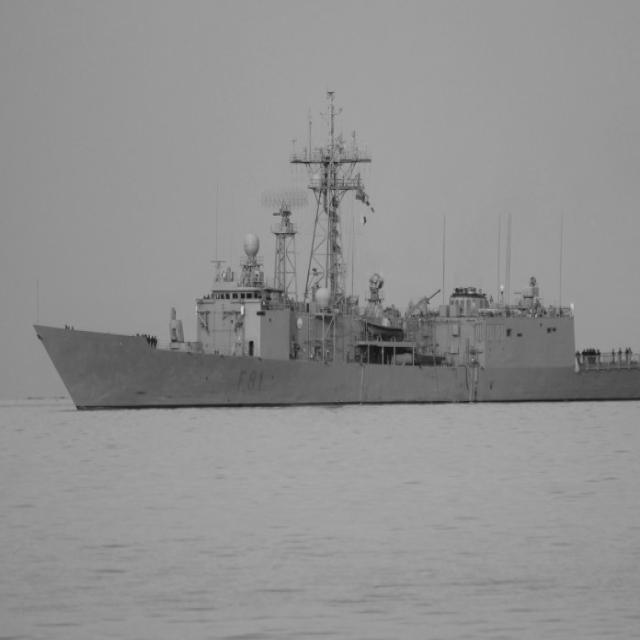Fragata: (33, 79, 640, 416)
